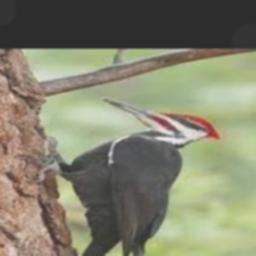Woodpecker: (23, 97, 221, 256)
